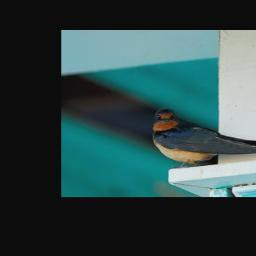Swallow: (148, 104, 256, 167)
